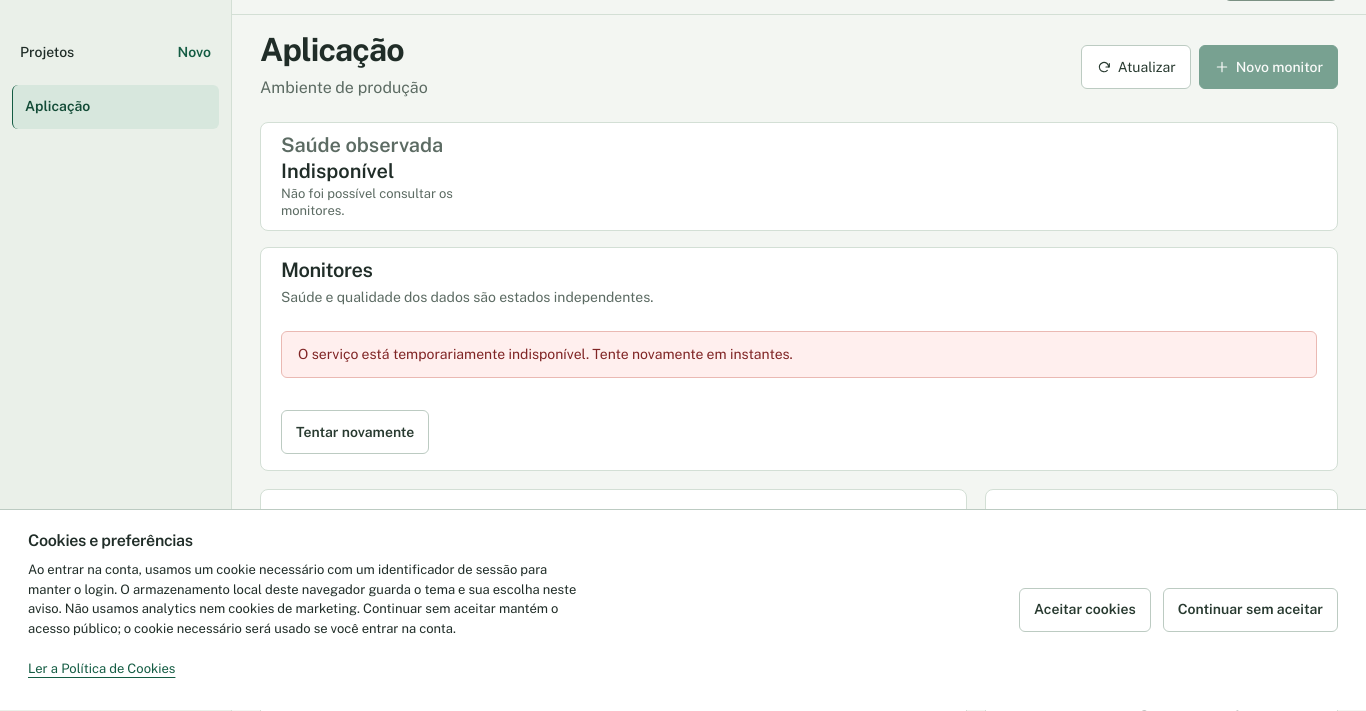
Scenario: fluxos reais da interface com transporte isolado no teste › mostra erro de carga e permite recuperar sem exibir números fictícios
Check: the message shows "temporariamente indisponível", box [298, 346, 793, 362]
Click the button "Tentar novamente" at (355, 432), box [281, 410, 429, 454]
(page scrolled)
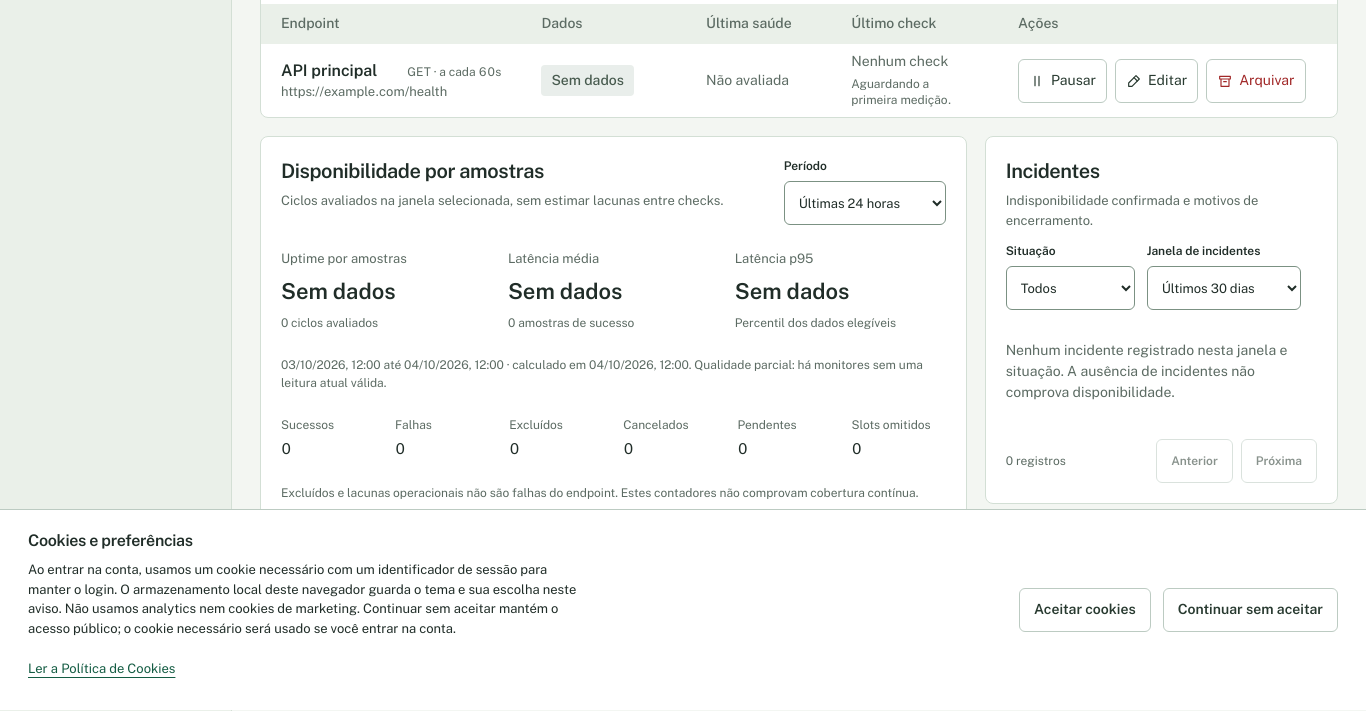
Check: the text "API principal" is shown, box [281, 61, 377, 80]
